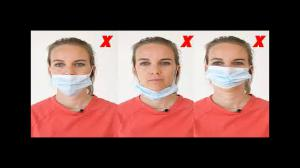mask_weared_incorrect: (136, 57, 176, 97), (51, 56, 90, 92)
with_mask: (209, 55, 249, 90)
